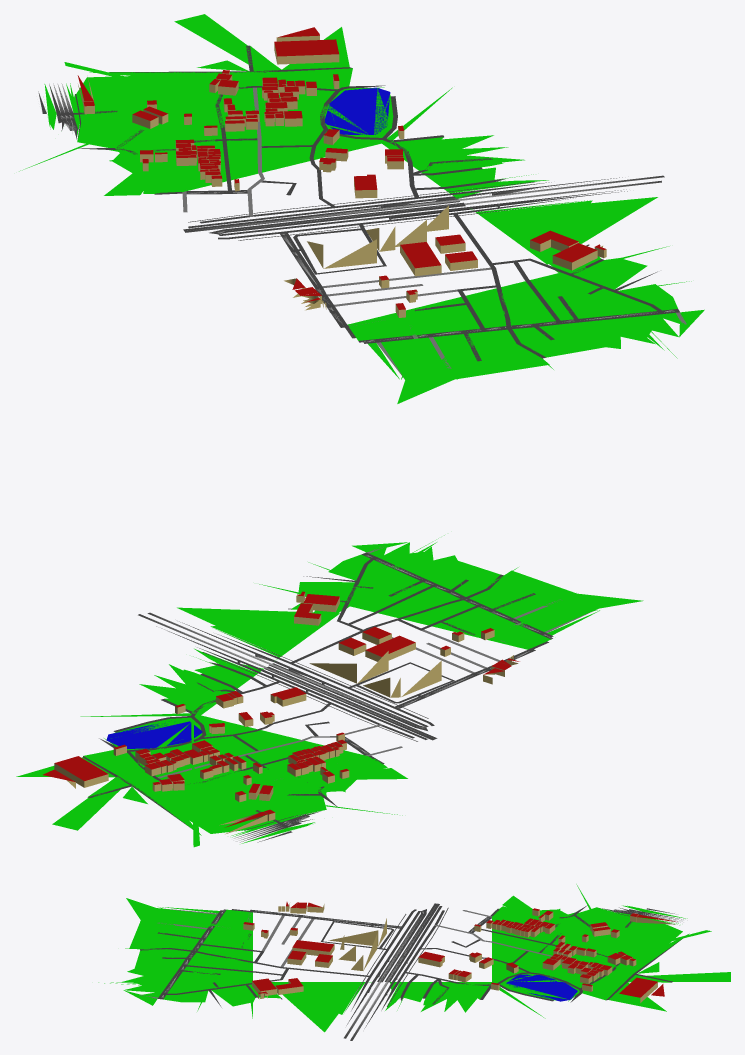
The picture shows the model from 3 angles, top to bottom: view 1: azimuth 30°, elevation 25°; view 2: azimuth 150°, elevation 25°; view 3: azimuth 270°, elevation 25°; orthographic projection. The views are drawn at different scales.
Bounding box in the file's own units: 475 × 25.5 × 900.
